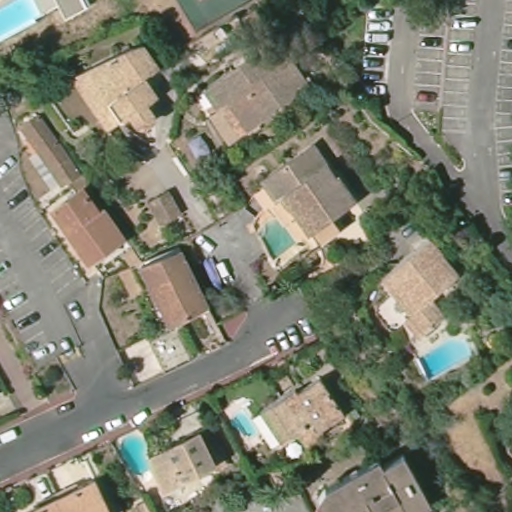pool: (420, 337, 472, 380), (1, 1, 43, 46), (257, 214, 294, 259), (118, 431, 151, 475), (230, 412, 260, 440)
